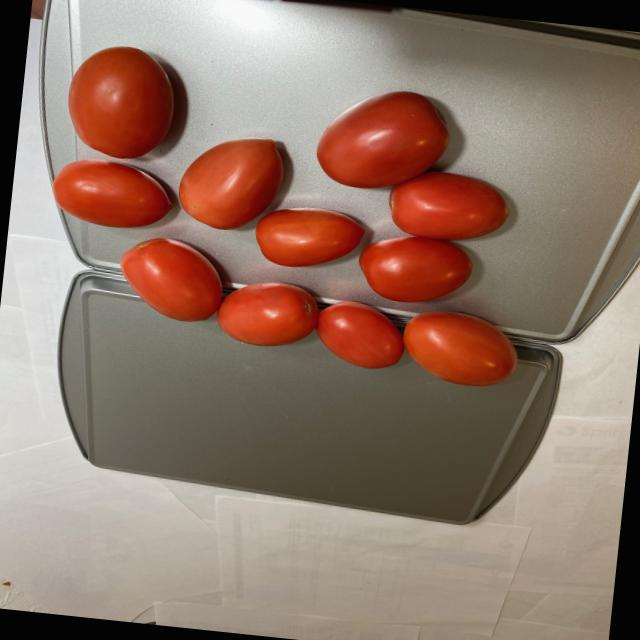tomato: (36, 47, 554, 394)
